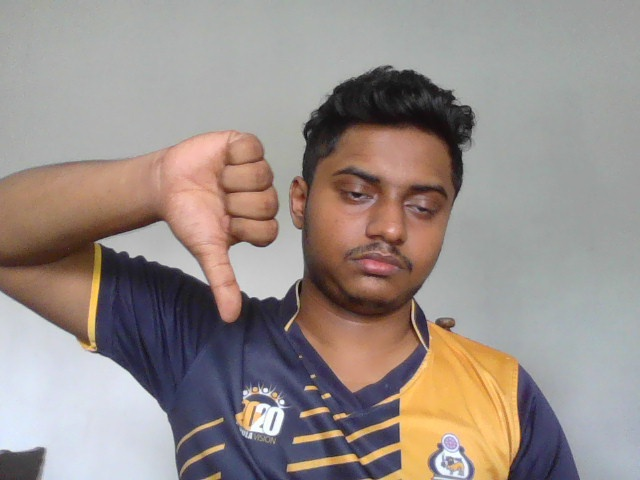Disagree: (155, 124, 280, 324)
